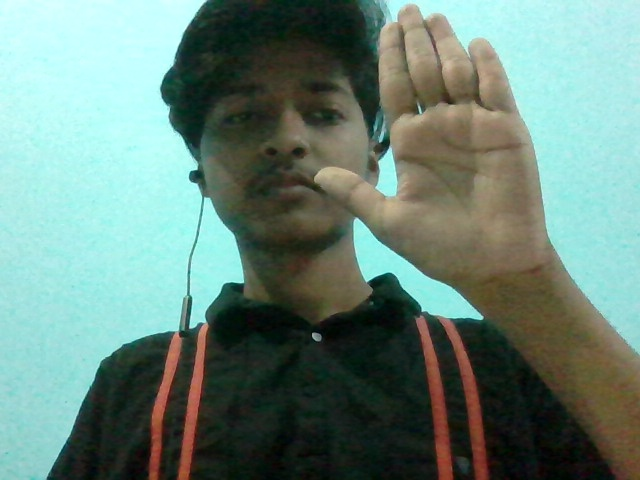hello: (334, 15, 567, 282)
